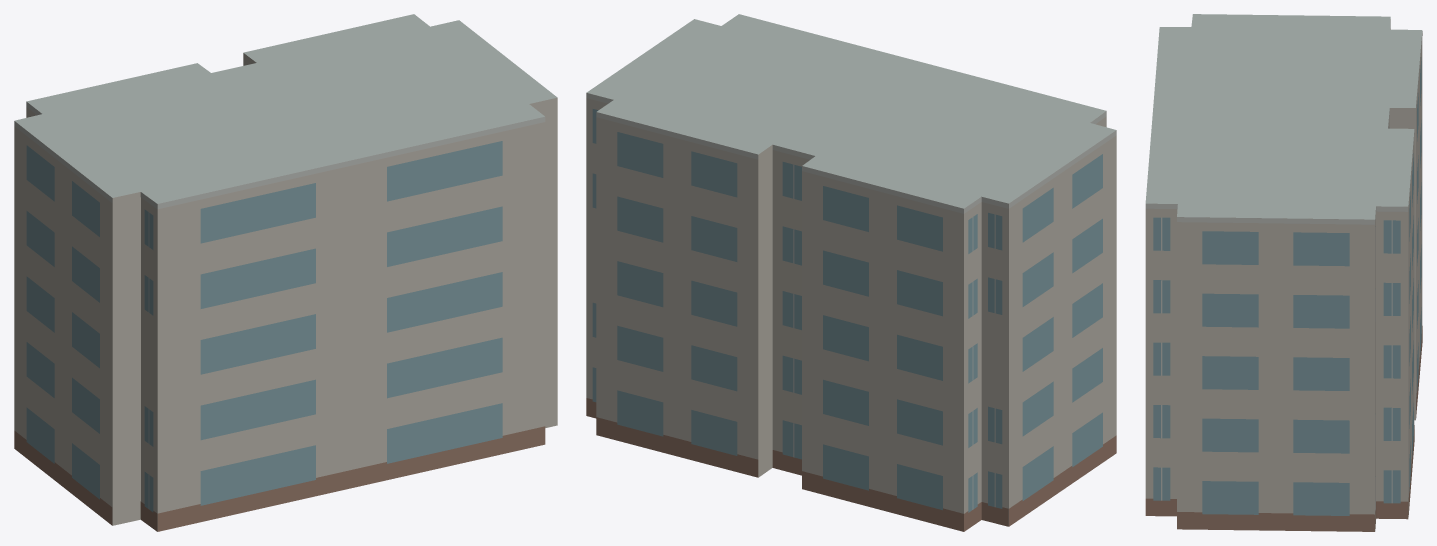
Rendered from survey-upis-32669749.glb.
3 views of the same model, side by side, from view 1: azimuth 30°, elevation 25°; view 2: azimuth 150°, elevation 25°; view 3: azimuth 270°, elevation 25° (orthographic). The views are drawn at different scales.
Visible parts, largest first — view 1: survey-upis-32669749.tmp; view 2: survey-upis-32669749.tmp; view 3: survey-upis-32669749.tmp.
Part boxes in pixels (box(x1,y1,x2,y2)): survey-upis-32669749.tmp: box(14, 14, 557, 531); survey-upis-32669749.tmp: box(586, 14, 1116, 531); survey-upis-32669749.tmp: box(1145, 14, 1422, 531).
Bounding box in the file's own units: 21.26 × 15.05 × 12.1.
